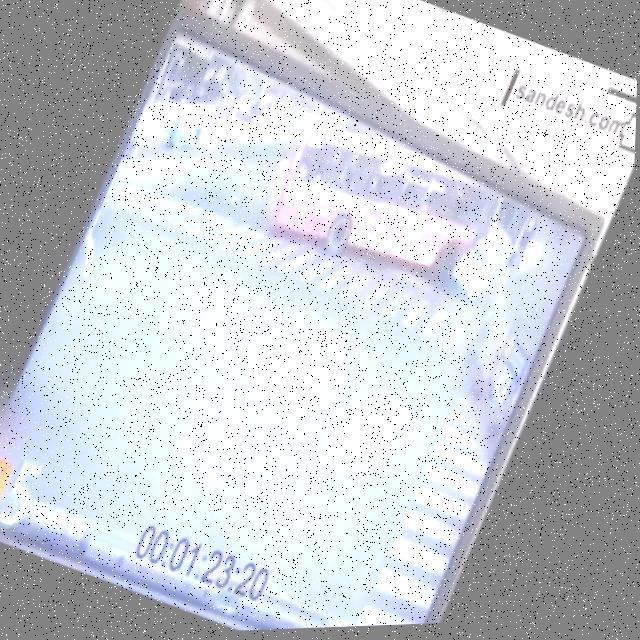Car Accident Detector - v4 Generation1 Exported: (256, 104, 536, 322)
